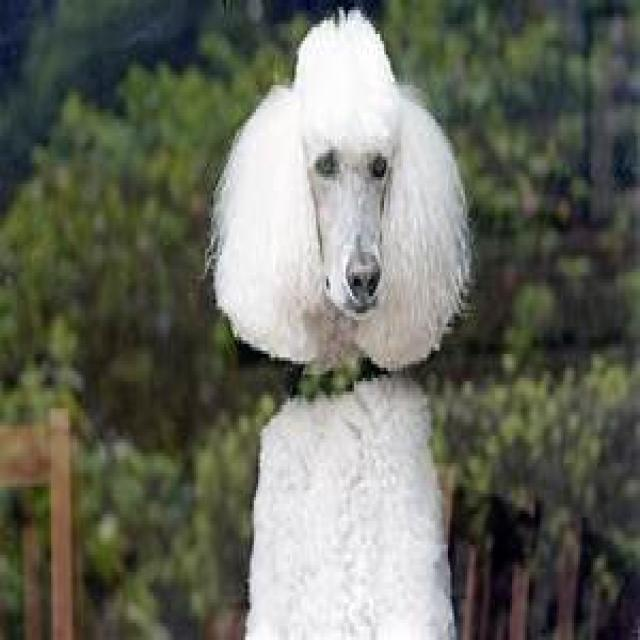dog: (209, 7, 474, 640)
